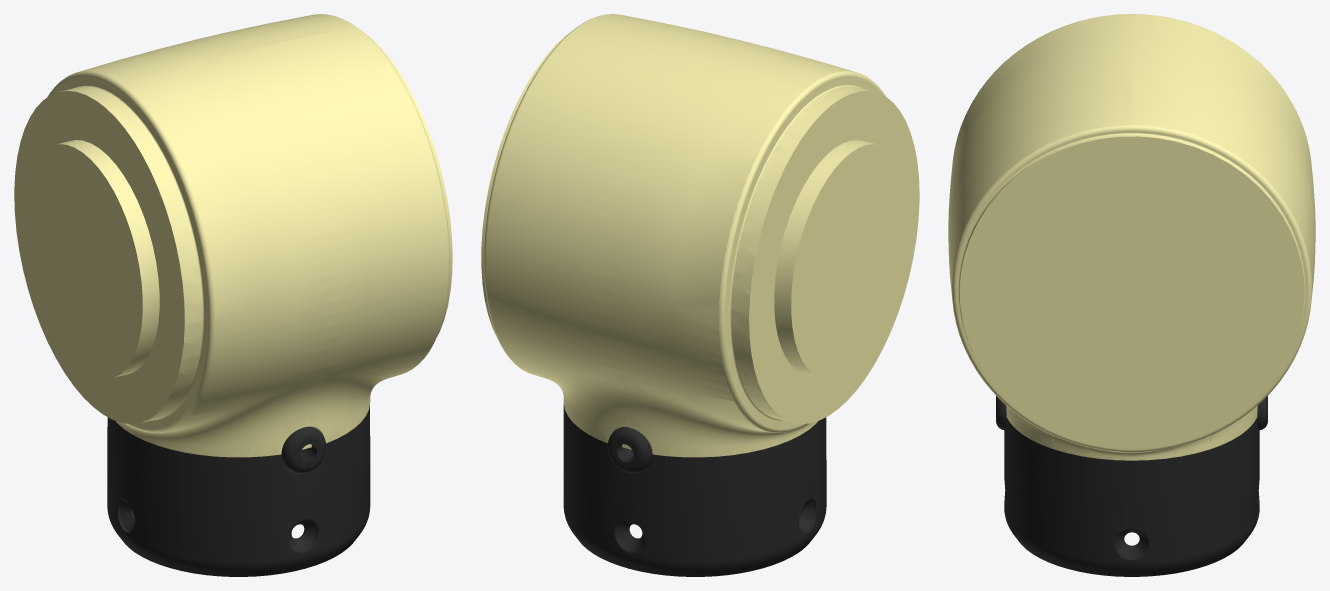
File: wrist_roll_r_j7_link.glb
3 renders of one model, left to right at view 1: azimuth 30°, elevation 25°; view 2: azimuth 150°, elevation 25°; view 3: azimuth 270°, elevation 25°, orthographic. The views are drawn at different scales.
Visible parts, largest first — view 1: Mesh_0.027; view 2: Mesh_0.027; view 3: Mesh_0.027.
Boxes of the visible parts, bbox=[...] form: Mesh_0.027: bbox=[14, 14, 452, 576]; Mesh_0.027: bbox=[481, 14, 919, 576]; Mesh_0.027: bbox=[948, 14, 1315, 576].
Bounding box in the file's own units: 0.0667 × 0.1072 × 0.0775.
2 materials, 1 textured.
